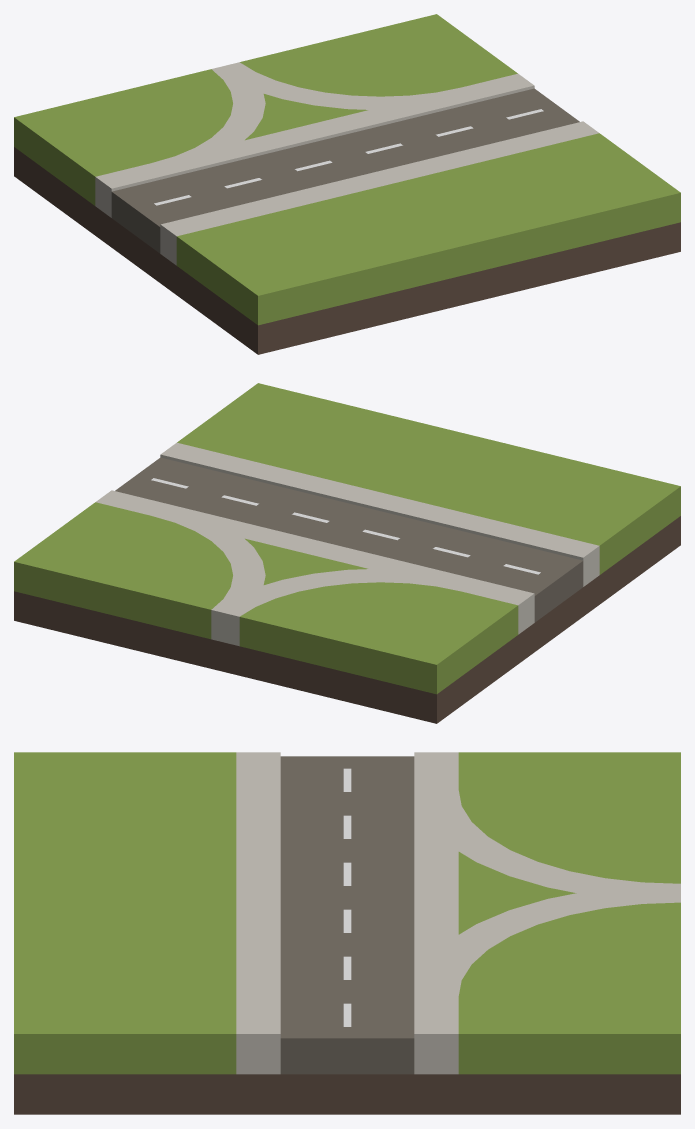
File: road-tile-straight-sidewalk_01.fbx
The picture shows the model from 3 angles, top to bottom: view 1: azimuth 30°, elevation 25°; view 2: azimuth 150°, elevation 25°; view 3: azimuth 270°, elevation 25°; orthographic projection. The views are drawn at different scales.
Visible parts, largest first — view 1: road-tile-straight-sidewalk_01; view 2: road-tile-straight-sidewalk_01; view 3: road-tile-straight-sidewalk_01.
Part boxes in pixels (x1,y1,x2,y2): road-tile-straight-sidewalk_01: (14,14,680,354); road-tile-straight-sidewalk_01: (14,383,680,723); road-tile-straight-sidewalk_01: (14,752,680,1114).
Size of the model in its own units: 3000 by 400 by 3000.
